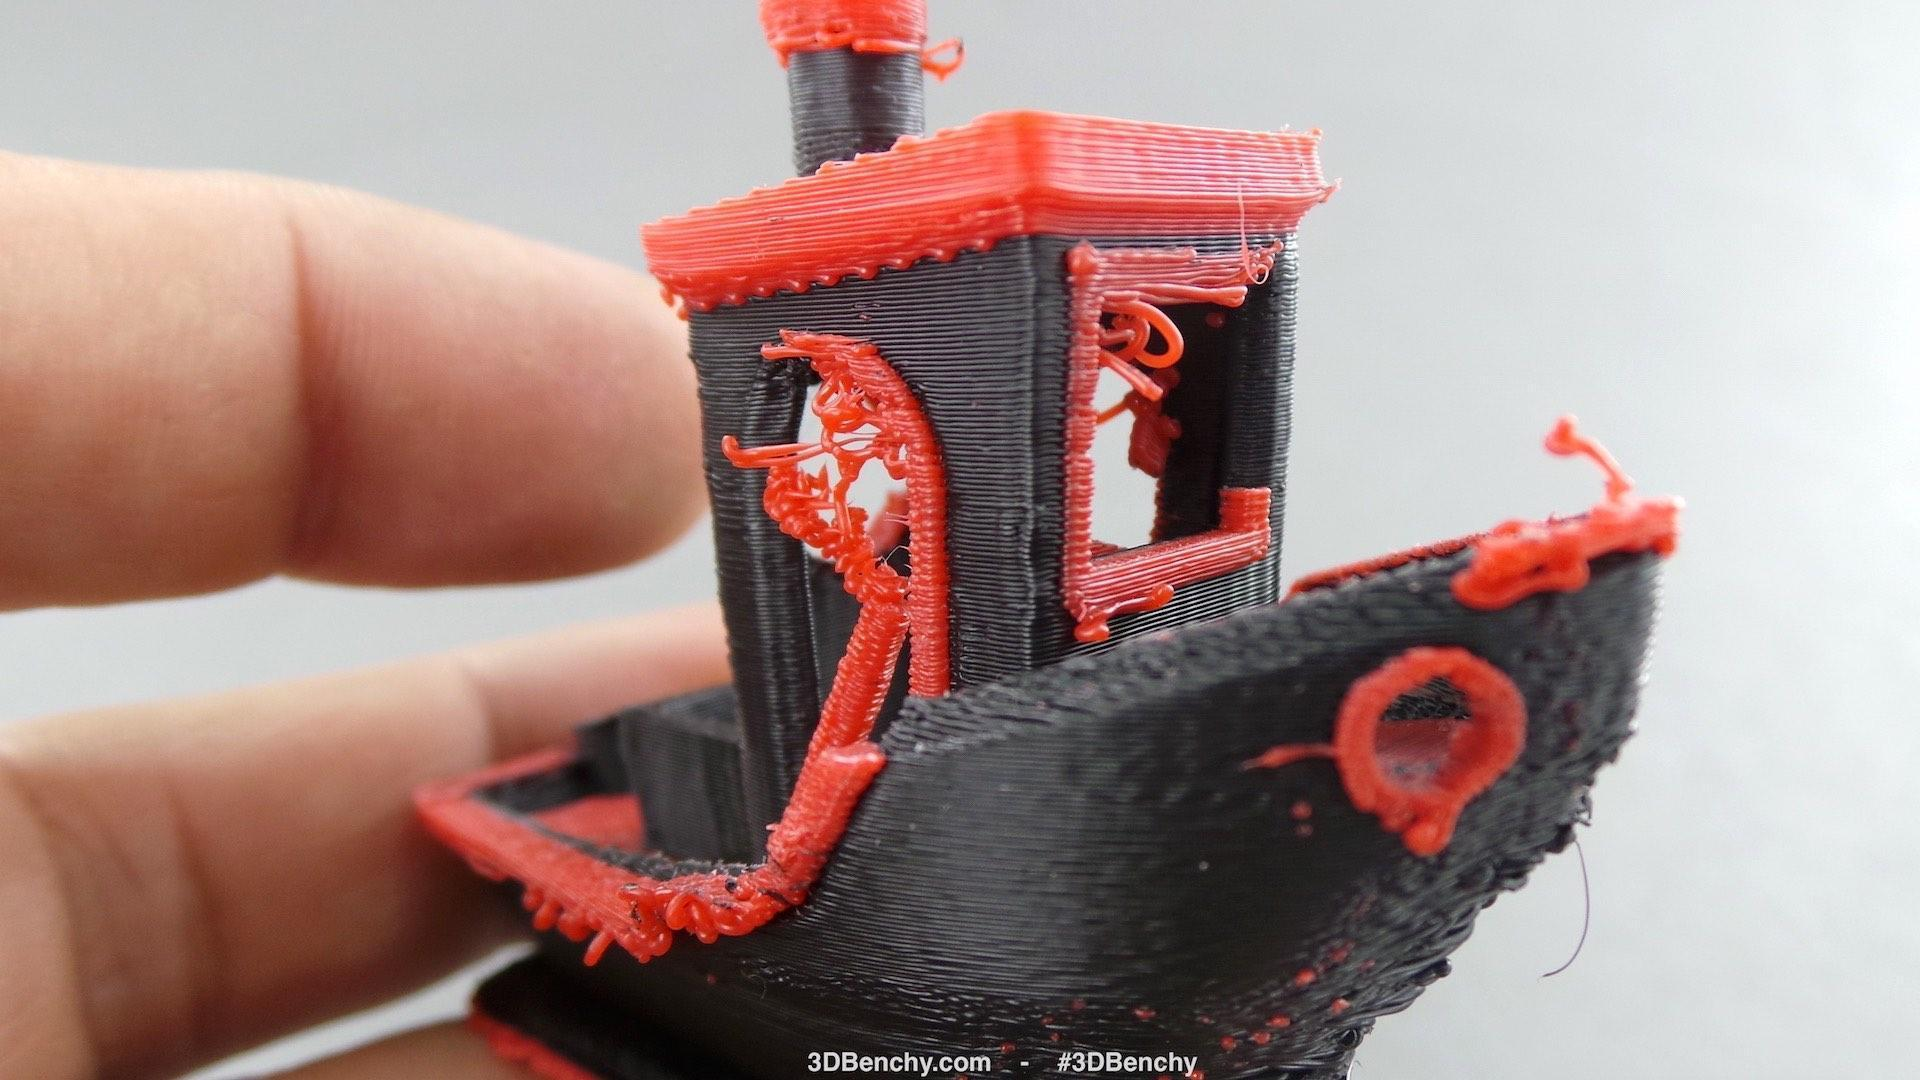Spaghetti: (770, 472, 1678, 1044), (647, 322, 1311, 605), (580, 116, 1404, 317), (359, 723, 822, 1058), (693, 0, 989, 177), (706, 610, 1088, 683)
